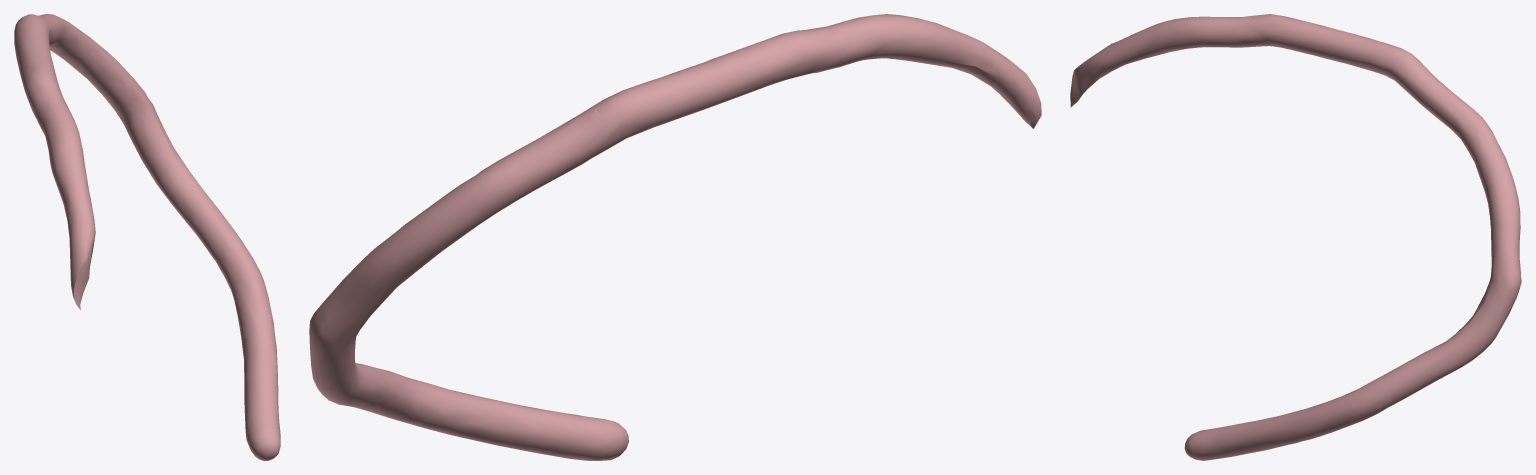
File: fma83715-l_mm3065.glb
3 renders of one model, left to right at view 1: azimuth 30°, elevation 25°; view 2: azimuth 150°, elevation 25°; view 3: azimuth 270°, elevation 25°, orthographic. The views are drawn at different scales.
Parts seen in each view (by area): view 1: FMA83715-L_MM3065; view 2: FMA83715-L_MM3065; view 3: FMA83715-L_MM3065.
Part boxes in pixels (x1=…): FMA83715-L_MM3065: x1=14, y1=14, x2=280, y2=460; FMA83715-L_MM3065: x1=309, y1=14, x2=1041, y2=460; FMA83715-L_MM3065: x1=1070, y1=14, x2=1521, y2=460.
Bounding box in the file's own units: 0.0294 × 0.0323 × 0.0365.
